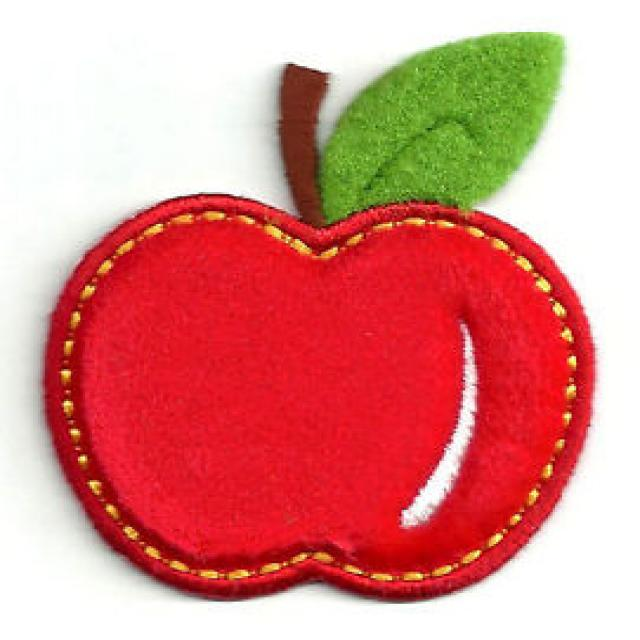apple: (50, 35, 590, 609)
